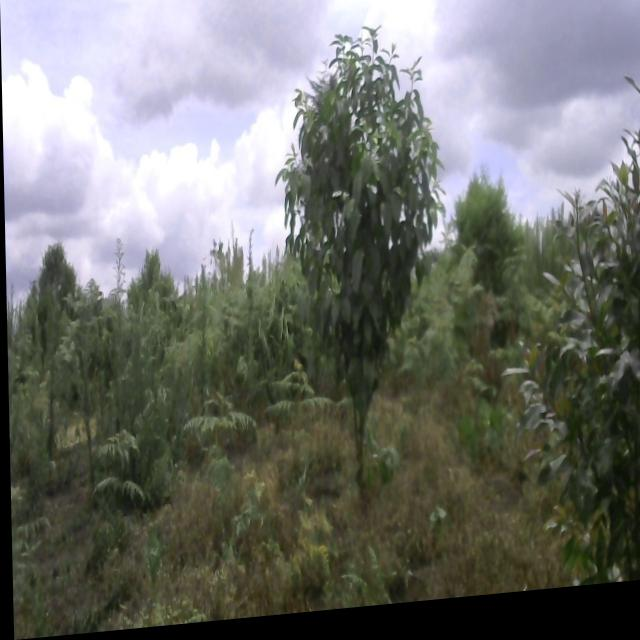Hass Avocado: (268, 13, 452, 476), (502, 76, 640, 587)
cedrus: (451, 179, 522, 302), (120, 244, 180, 325), (33, 242, 77, 334)
